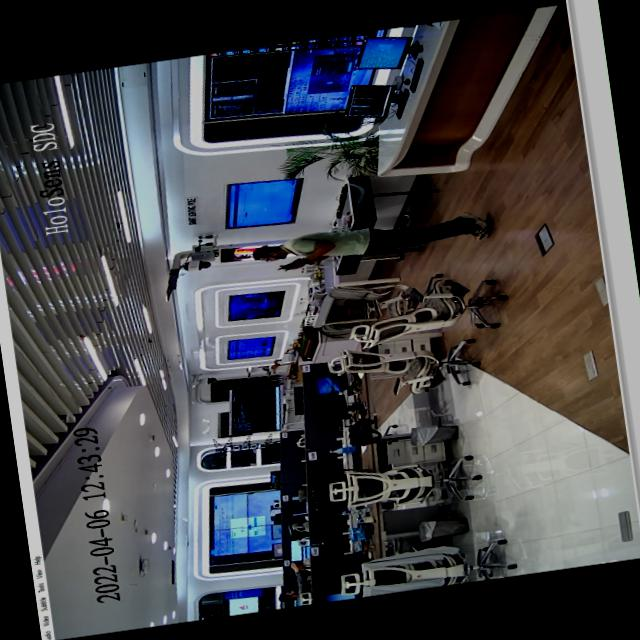long weapon: (274, 252, 318, 272)
